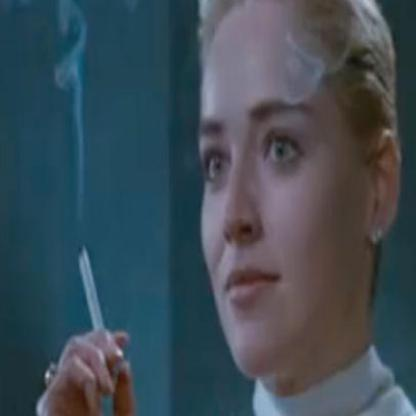cigarette: (78, 241, 104, 332)
person: (187, 0, 411, 415)
smoke: (52, 0, 91, 139)
